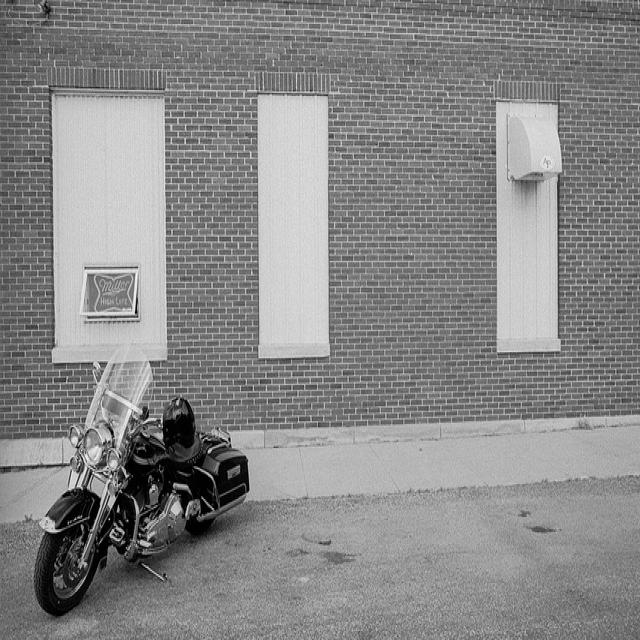motor: (33, 339, 251, 616)
